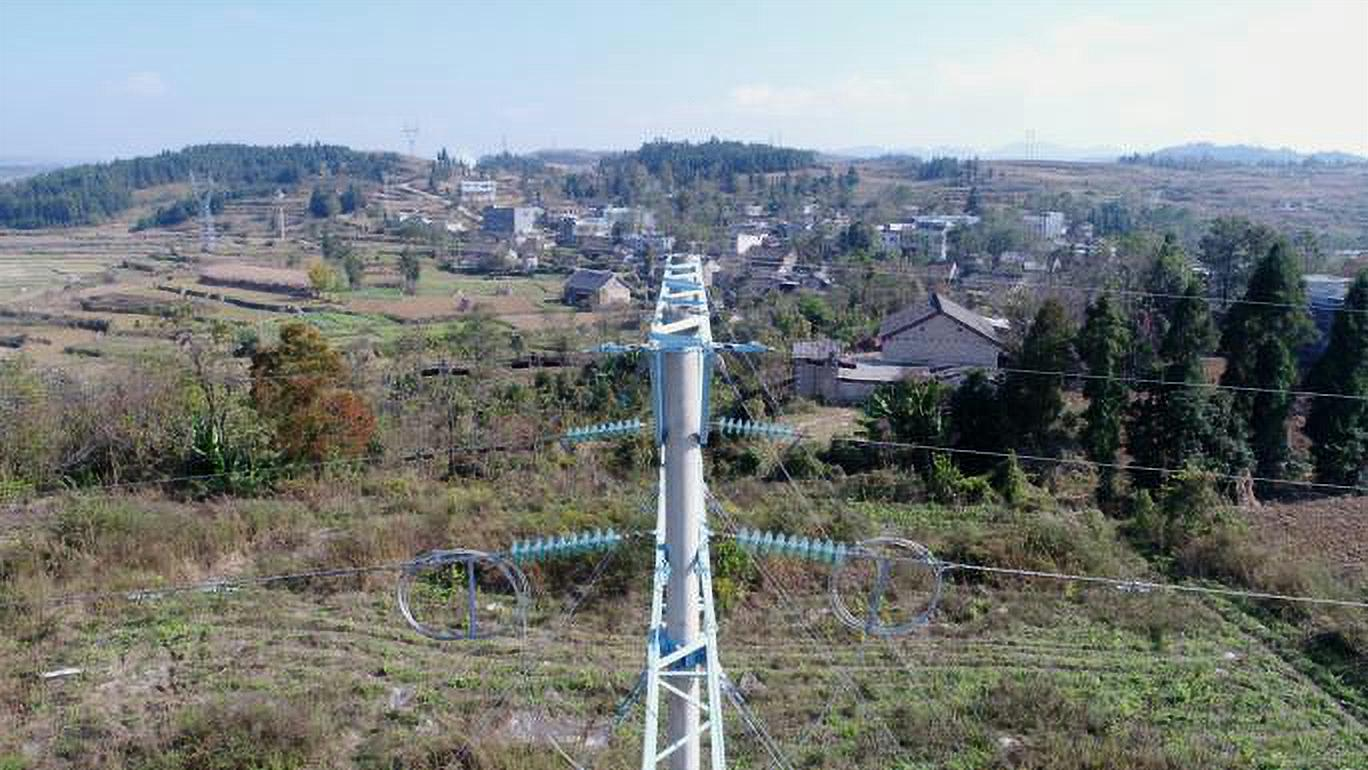insulator: (733, 522, 850, 571), (503, 523, 621, 571), (558, 413, 644, 450), (716, 412, 800, 448)
